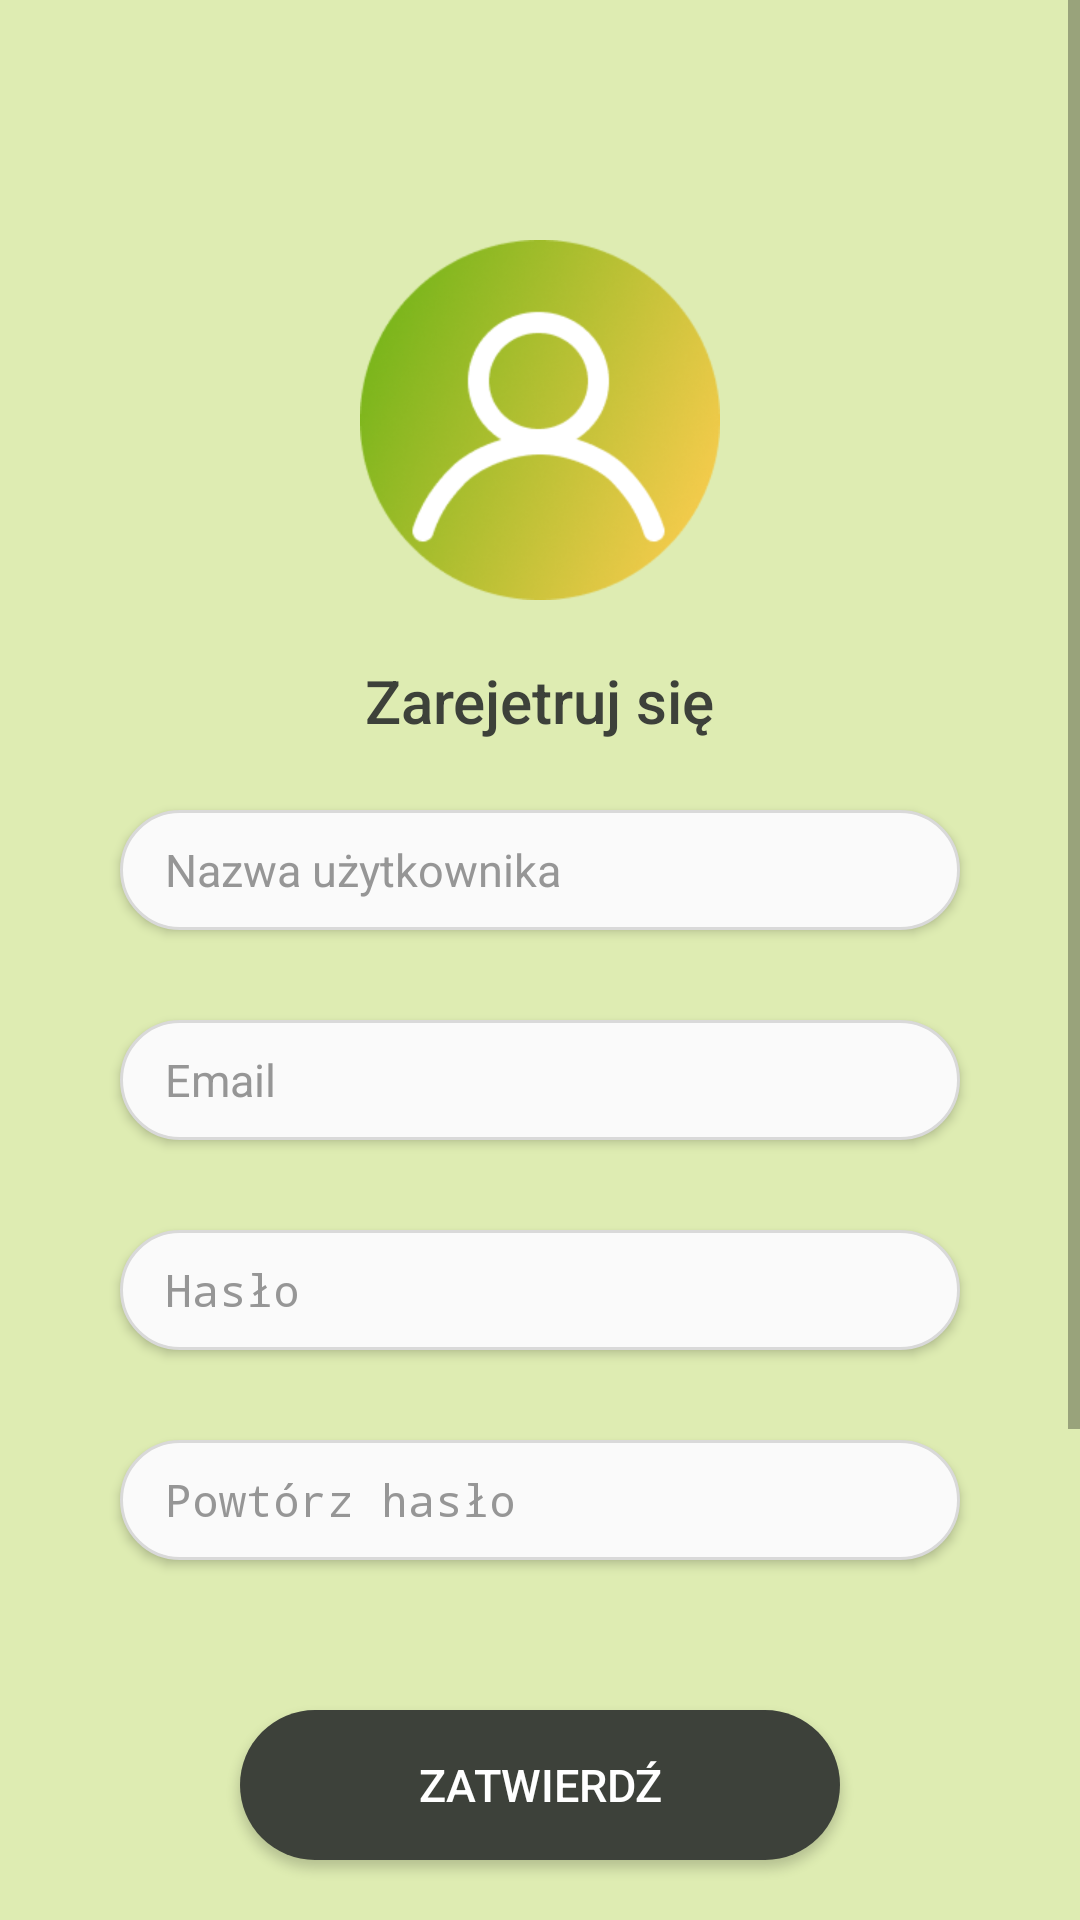

Icon bounding boxes for this 1080*1920 phone screenshot, format [x1=x1, y1=y1, x2=x2, y2=y2]:
user: [x1=360, y1=240, x2=720, y2=600]
